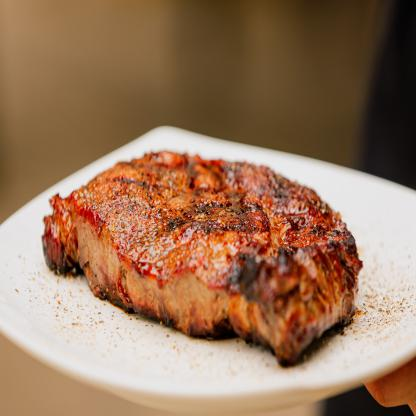Carne: (40, 145, 357, 363)
